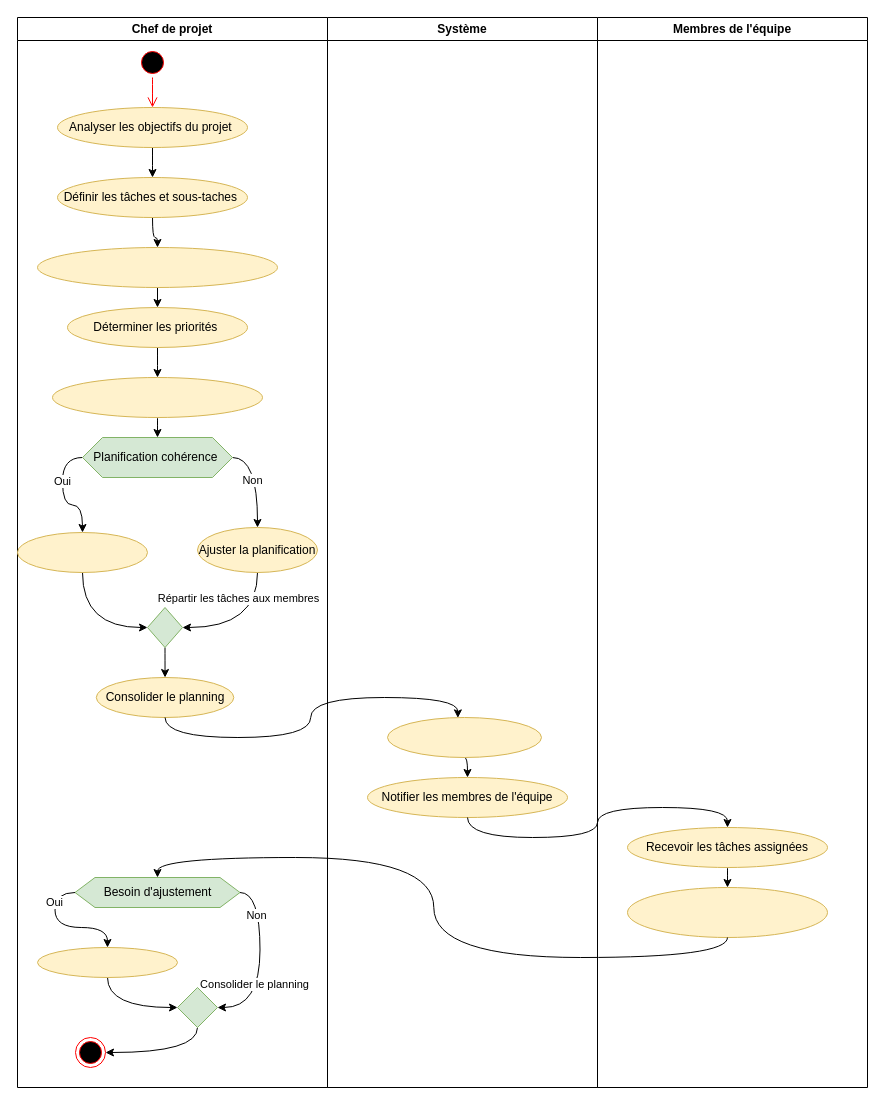
The diagram is 885 pixels wide and 1105 high, and some of its shapes have lost their labels. Here are the shapes that lost their labels. From the top down, the centre of each, then its label:
point (157, 267): Estimer la durée et les ressources
point (157, 397): Repartir les tâches au membres
point (82, 552): Valider la planification
point (464, 737): Enregistrer le planning
point (727, 912): Prendre connaissance des responsabilités
point (107, 962): Modifier la planification
